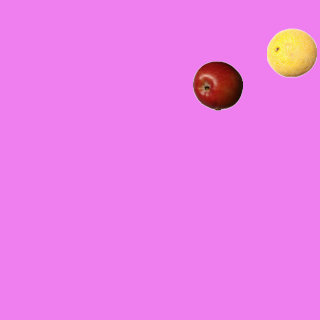Apple Braeburn: (192, 60, 242, 110)
Cantaloupe 1: (266, 27, 316, 77)
